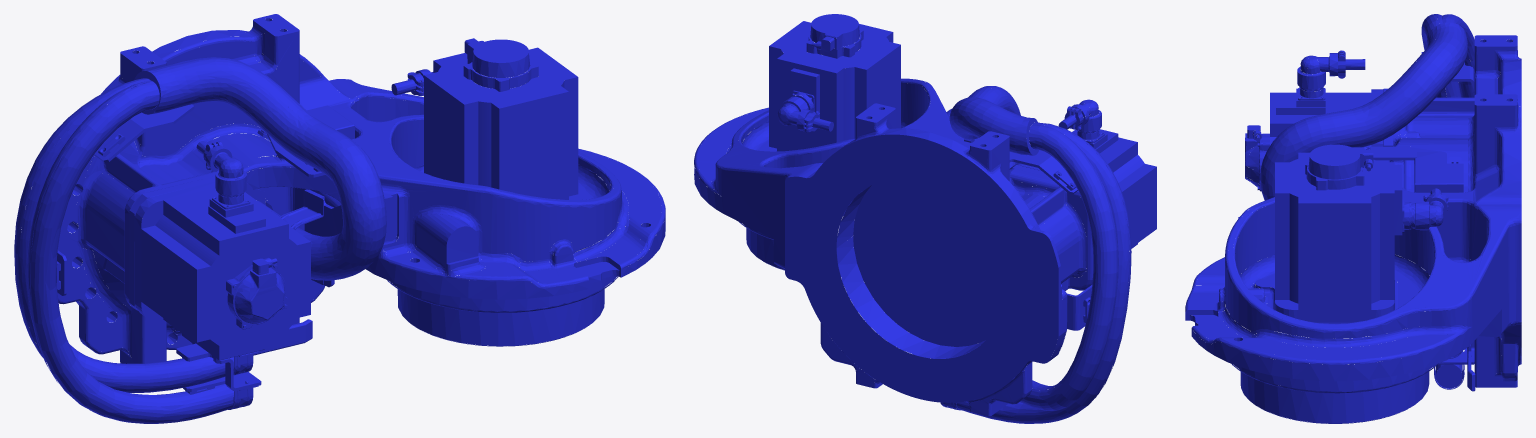
3 renders of one model, left to right at view 1: azimuth 30°, elevation 25°; view 2: azimuth 150°, elevation 25°; view 3: azimuth 270°, elevation 25°, orthographic. The views are drawn at different scales.
Parts seen in each view (by area): view 1: /Link1/Link1_002-mesh/0; view 2: /Link1/Link1_002-mesh/0; view 3: /Link1/Link1_002-mesh/0.
Boxes of the visible parts, <box> form: /Link1/Link1_002-mesh/0: <box>14,14,665,423</box>; /Link1/Link1_002-mesh/0: <box>694,14,1156,423</box>; /Link1/Link1_002-mesh/0: <box>1185,14,1521,423</box>.
Size of the model in its own units: 0.8676 by 0.5425 by 0.506.
